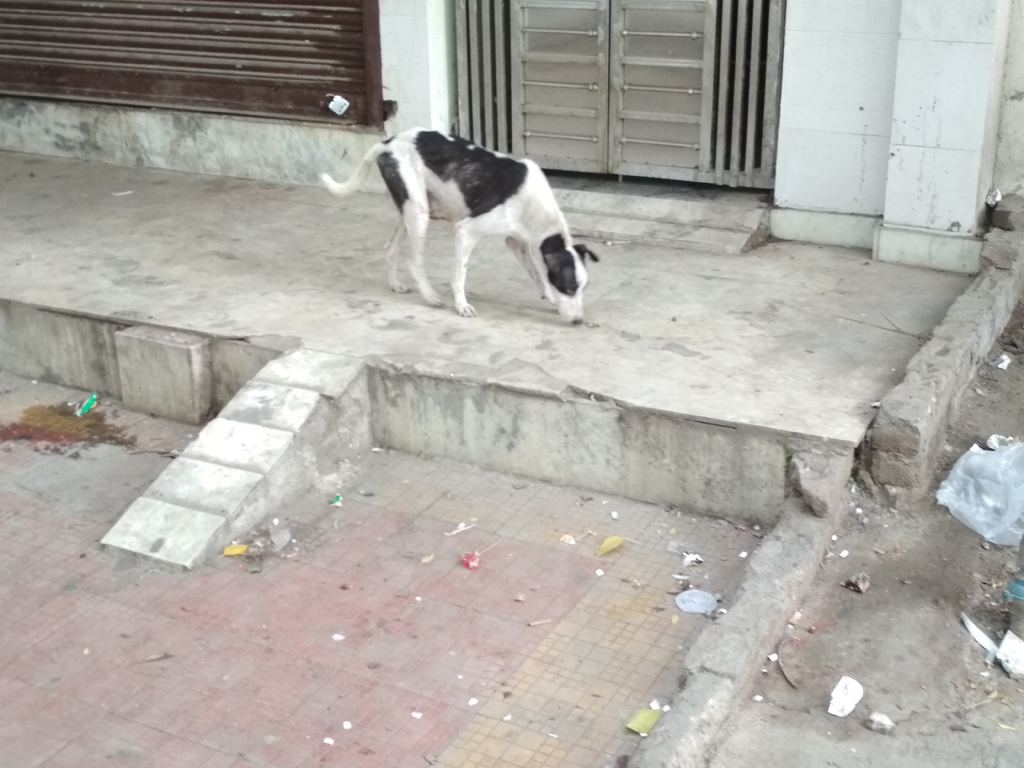dog: (319, 128, 600, 325)
